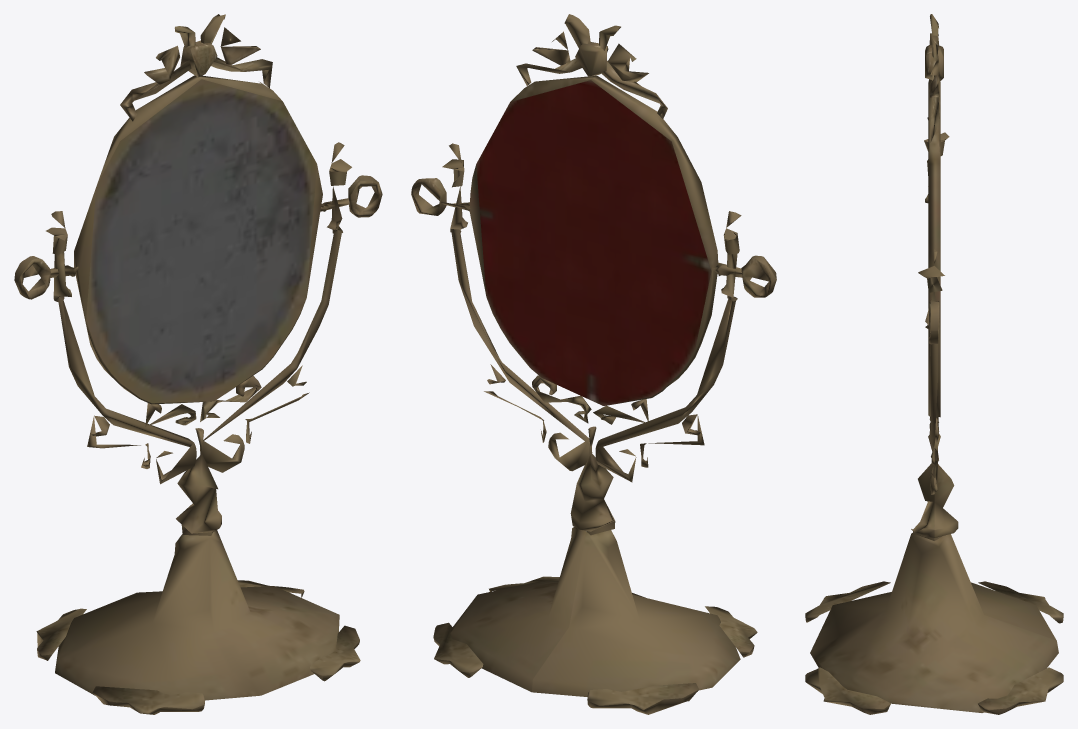
File: Mirror.glb
3 views of the same model, side by side, from view 1: azimuth 30°, elevation 25°; view 2: azimuth 150°, elevation 25°; view 3: azimuth 270°, elevation 25° (orthographic).
Parts seen in each view (by area): view 1: Obj3d66-19890971-2-437, Obj3d66-19890971-3-966; view 2: Obj3d66-19890971-2-437, Obj3d66-19890971-3-966; view 3: Obj3d66-19890971-3-966, Obj3d66-19890971-2-437.
Boxes of the visible parts, x1=… form: Obj3d66-19890971-2-437: x1=14, y1=14, x2=382, y2=426; Obj3d66-19890971-3-966: x1=36, y1=142, x2=360, y2=714; Obj3d66-19890971-2-437: x1=411, y1=14, x2=776, y2=424; Obj3d66-19890971-3-966: x1=433, y1=143, x2=757, y2=714; Obj3d66-19890971-3-966: x1=805, y1=117, x2=1063, y2=714; Obj3d66-19890971-2-437: x1=925, y1=14, x2=943, y2=442.
Bounding box in the file's own units: 0.5993 × 0.9951 × 0.3695.
Materials: 2 (2 with a texture image).
